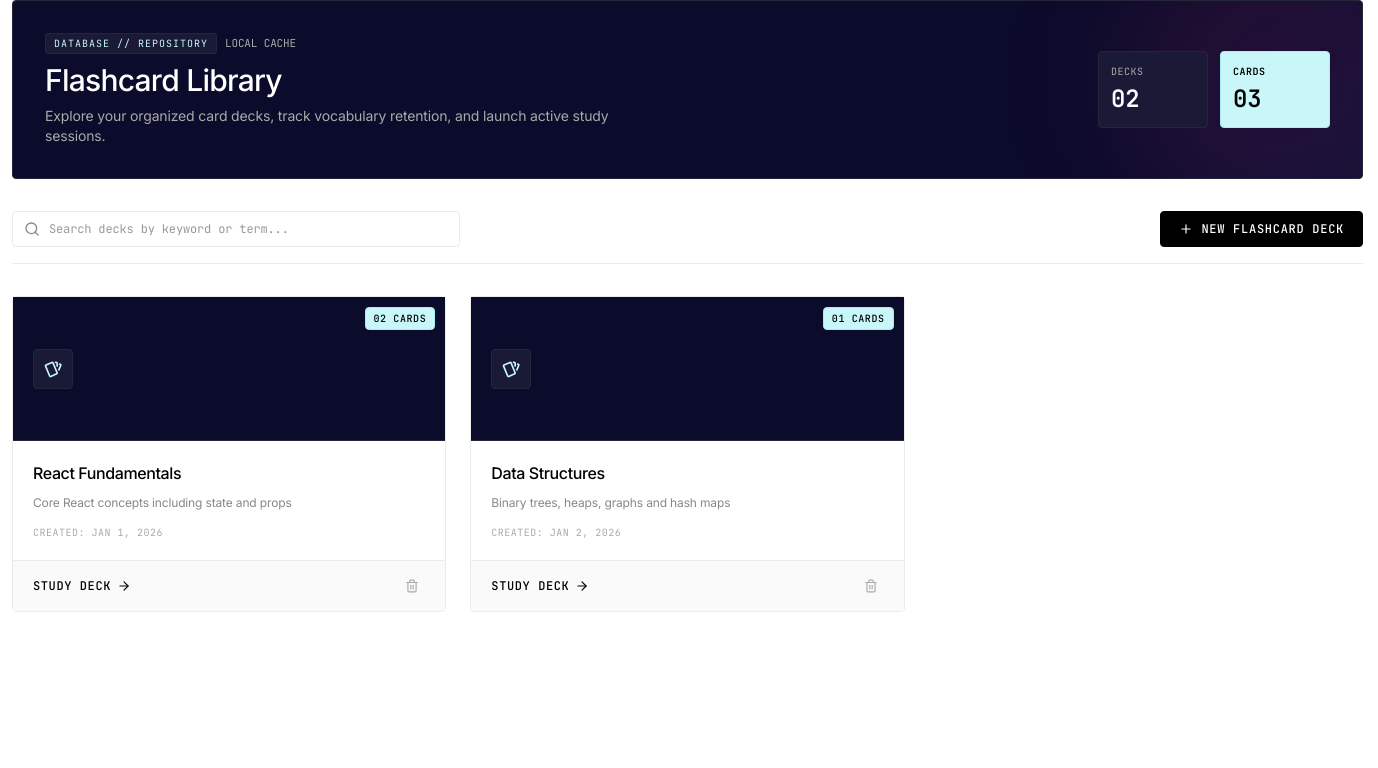
MyFlashcards component › displays "No Matching Decks" when search query has no results and allows clearing
This screenshot has width=1378, height=768.
Type "NonExistentTopic123" into the field with placeholder "Search decks by keyword or term..." at (236, 229), box [12,211,460,247]
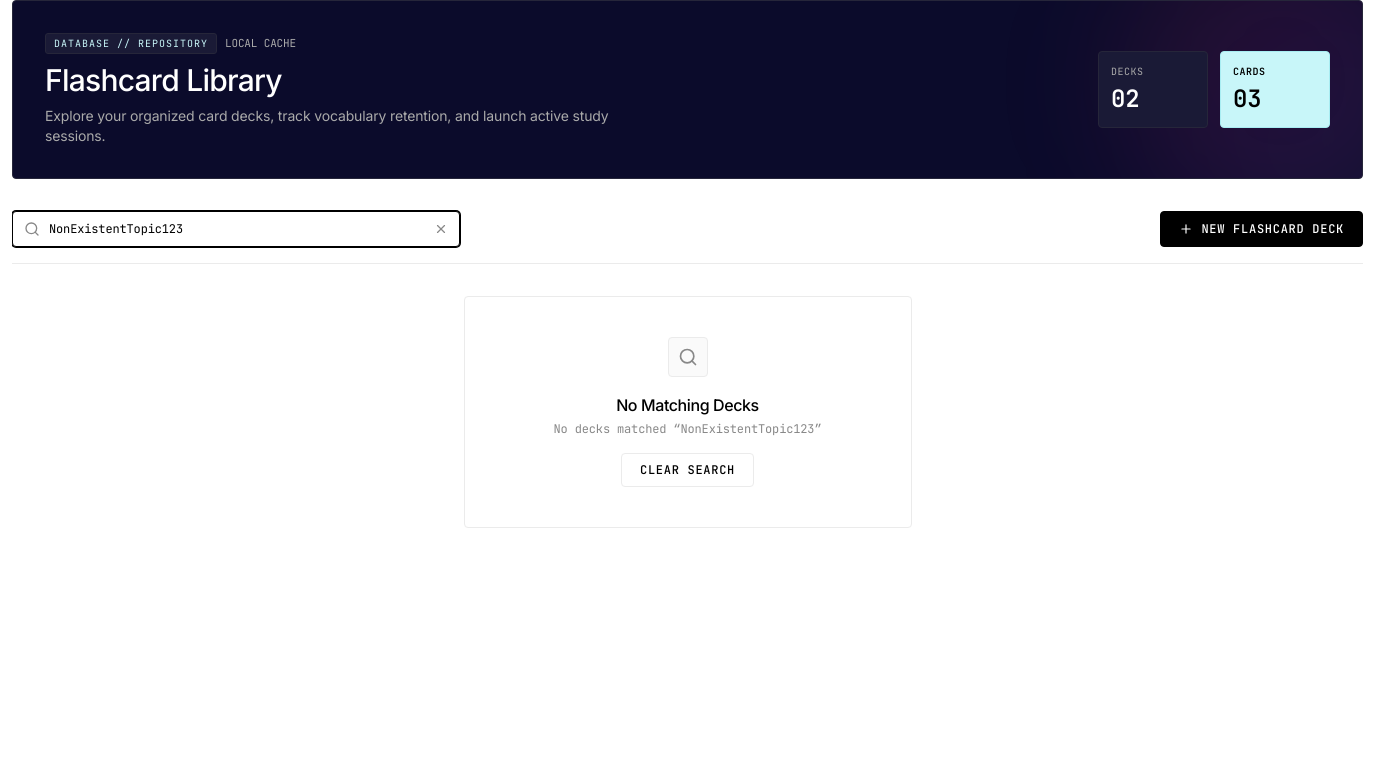
Check: the heading "No Matching Decks" is shown, box [616,395,759,415]
Check: the text "No decks matched “NonExistentTopic123”" is shown, box [554,421,821,437]
// Click Clear Search icon button in search bar
Click the button titled "Clear search" at (447, 229), box [434,211,460,247]
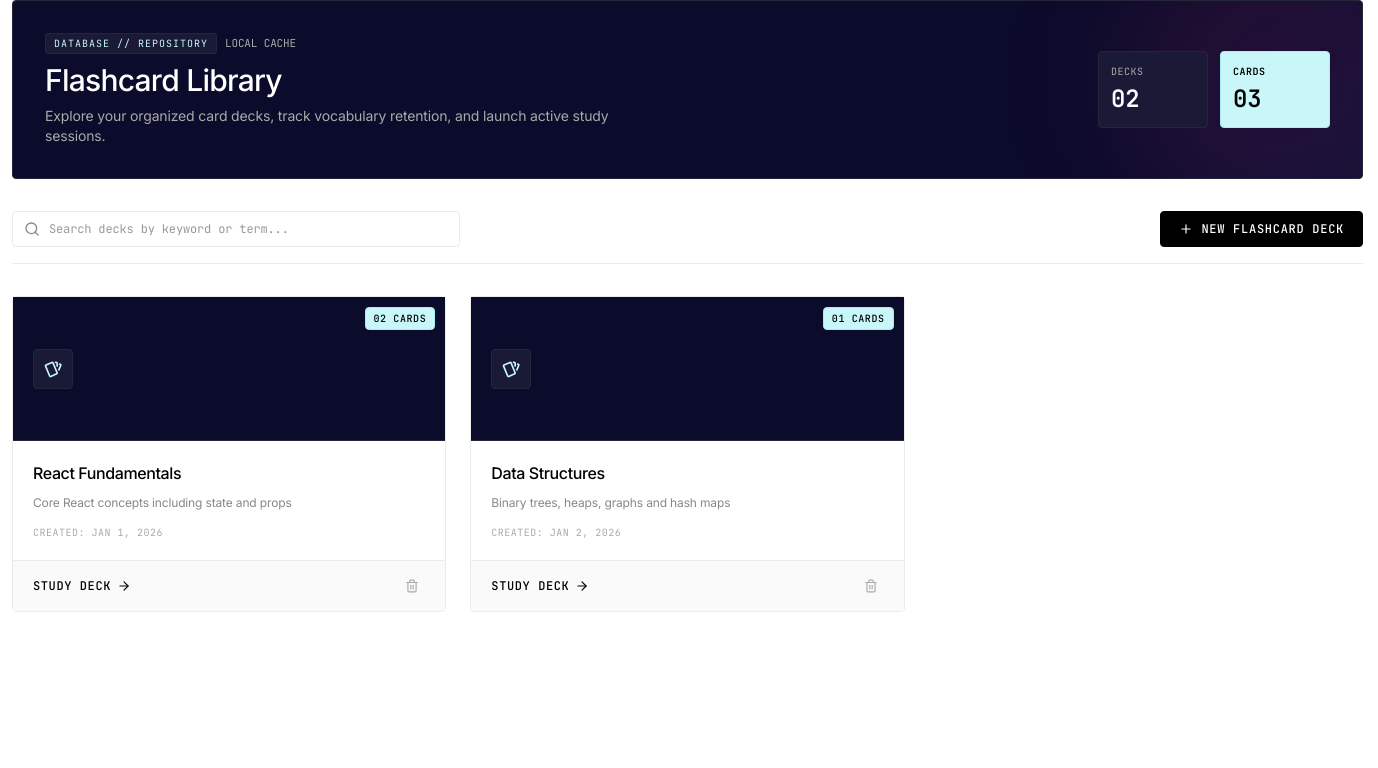
Check: the link "React Fundamentals" is shown, box [33,463,181,483]
Check: the link "Data Structures" is shown, box [491,463,605,483]
Check: the field with placeholder "Search decks by keyword or term..." is empty, box [12,211,460,247]
